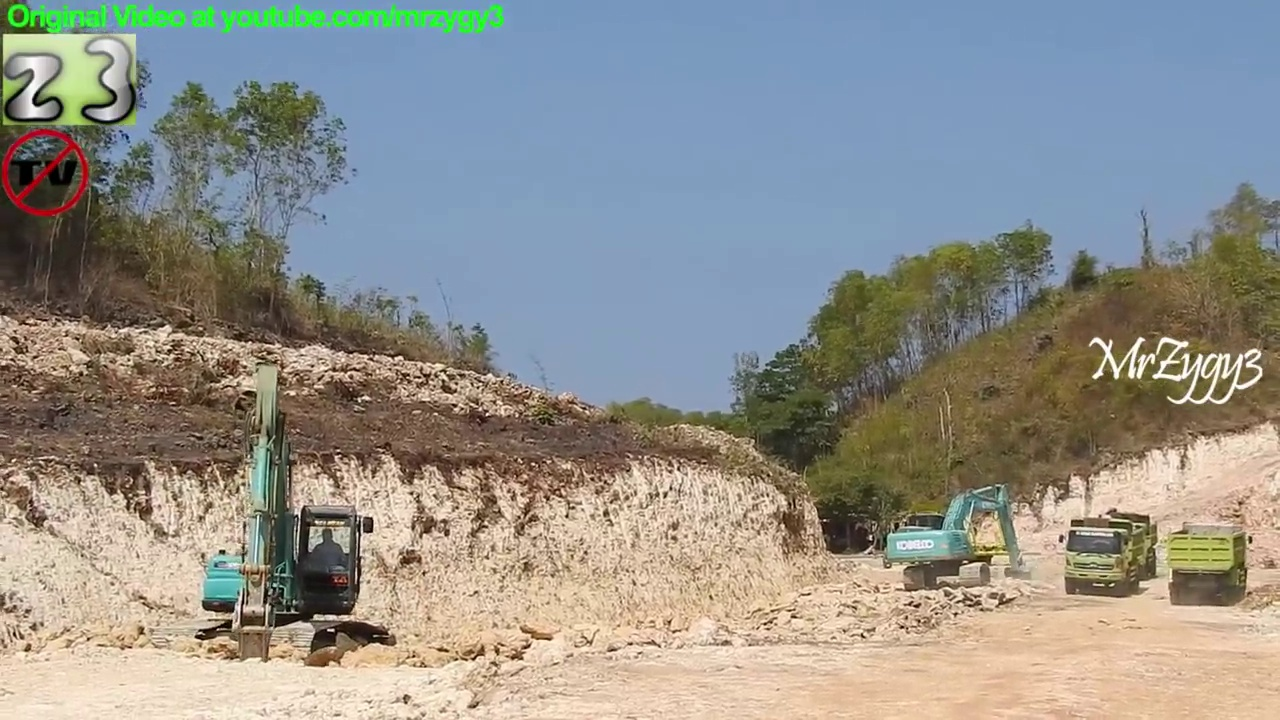excavator: (881, 482, 1037, 593)
excavator breaker: (143, 357, 402, 674)
truck: (1055, 514, 1150, 598), (1167, 521, 1257, 607), (1075, 506, 1161, 589)
